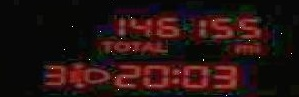0: (139, 63, 168, 87), (181, 63, 210, 87)
1: (114, 17, 125, 34), (194, 19, 205, 35)
2: (110, 62, 139, 86)
3: (210, 63, 236, 87), (41, 64, 65, 85)
4: (127, 17, 150, 34)
5: (207, 16, 232, 37), (234, 16, 259, 37)
6: (154, 16, 179, 36)
X: (232, 42, 252, 52), (112, 40, 127, 51), (170, 67, 179, 84), (98, 40, 112, 50), (152, 41, 165, 51), (141, 41, 152, 51), (130, 40, 139, 51), (252, 42, 259, 52)
